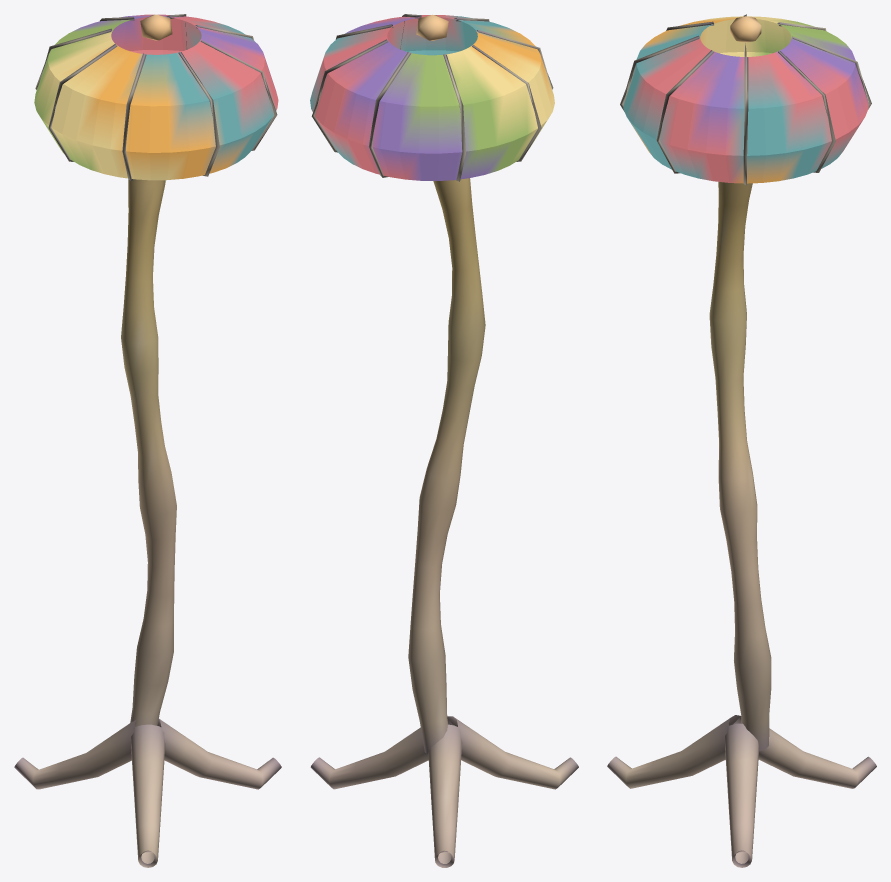
Rendered from gaudi_lambader.glb.
3 renders of one model, left to right at view 1: azimuth 30°, elevation 25°; view 2: azimuth 150°, elevation 25°; view 3: azimuth 270°, elevation 25°, orthographic.
Parts seen in each view (by area): view 1: gaudi_lambader_LOD0; view 2: gaudi_lambader_LOD0; view 3: gaudi_lambader_LOD0.
Boxes of the visible parts, bbox=[...] form: gaudi_lambader_LOD0: bbox=[14, 14, 281, 867]; gaudi_lambader_LOD0: bbox=[310, 14, 578, 867]; gaudi_lambader_LOD0: bbox=[607, 14, 876, 867].
Size of what is drawn, in the model's own units: 0.5877 by 1.94 by 0.5913.
